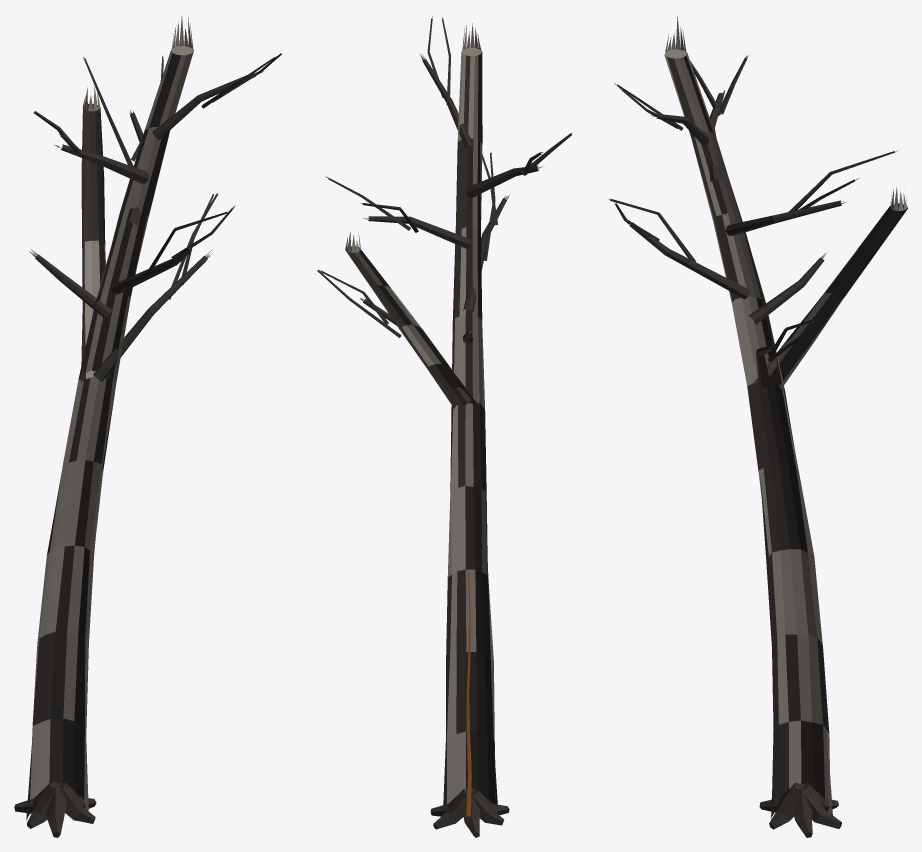
File: birch-charred.glb
3 renders of one model, left to right at view 1: azimuth 30°, elevation 25°; view 2: azimuth 150°, elevation 25°; view 3: azimuth 270°, elevation 25°, orthographic. The views are drawn at different scales.
Parts seen in each view (by area): view 1: tree_birch-charred_LOD0; view 2: tree_birch-charred_LOD0; view 3: tree_birch-charred_LOD0.
Part boxes in pixels (x1,y1,x2,y2): tree_birch-charred_LOD0: (14, 16, 281, 837); tree_birch-charred_LOD0: (317, 16, 572, 837); tree_birch-charred_LOD0: (608, 15, 907, 837).
Bounding box in the file's own units: 3.12 × 10.99 × 3.62.
